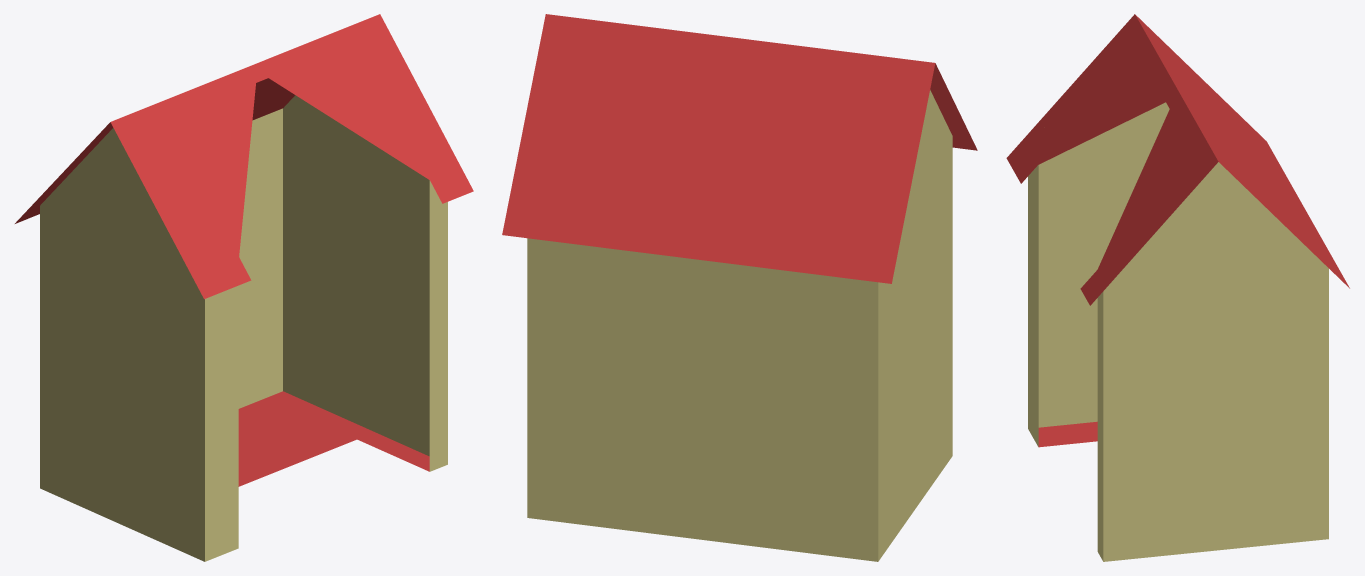
3 renders of one model, left to right at view 1: azimuth 30°, elevation 25°; view 2: azimuth 150°, elevation 25°; view 3: azimuth 270°, elevation 25°, orthographic. The views are drawn at different scales.
Size of the model in its own units: 17.33 by 14.46 by 18.37.
